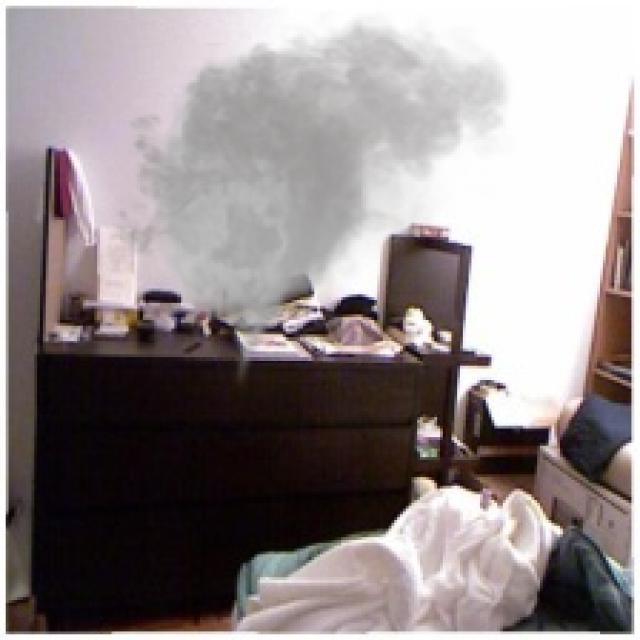Smoke: (100, 2, 517, 388)
